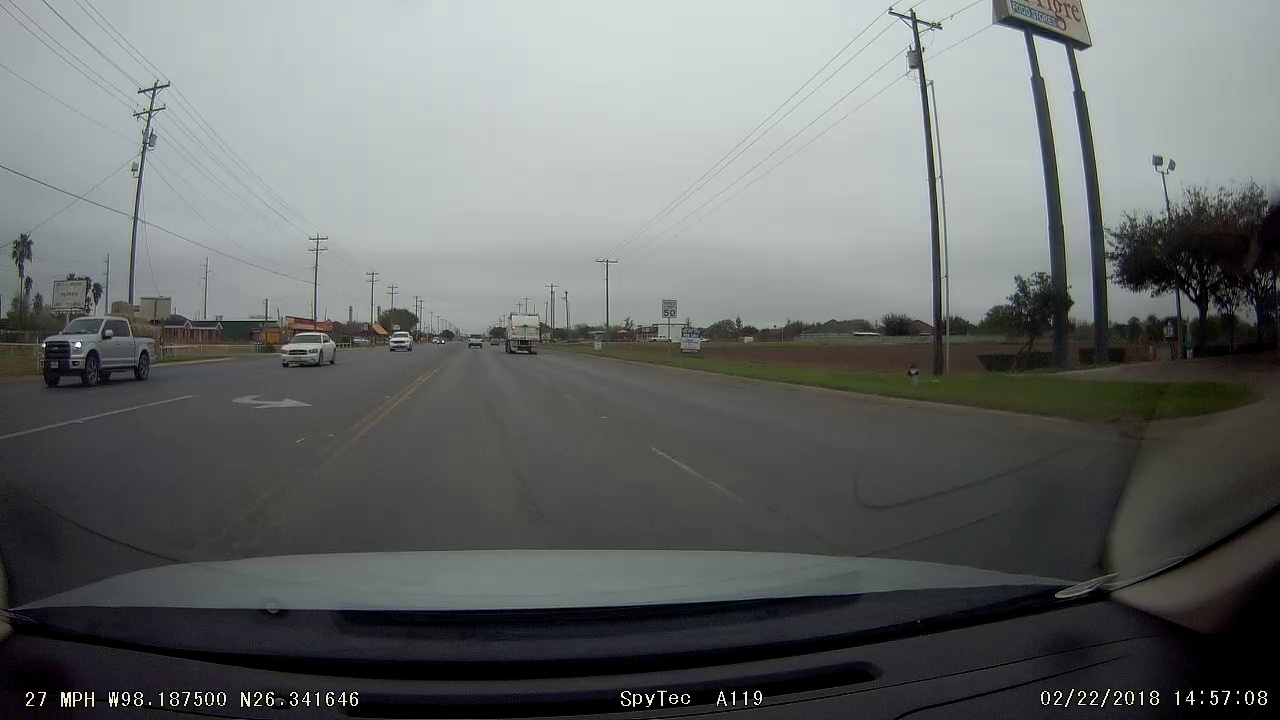blurredLine: (231, 466, 334, 534), (672, 455, 767, 515)
